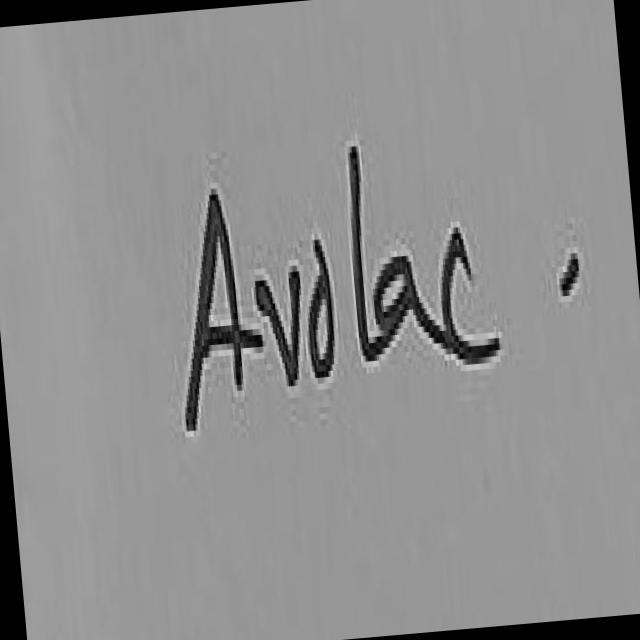A: (185, 194, 262, 427)
a: (374, 255, 442, 345)
c: (442, 227, 501, 365)
l: (348, 141, 388, 369)
o: (308, 239, 338, 384)
v: (256, 274, 299, 383)
